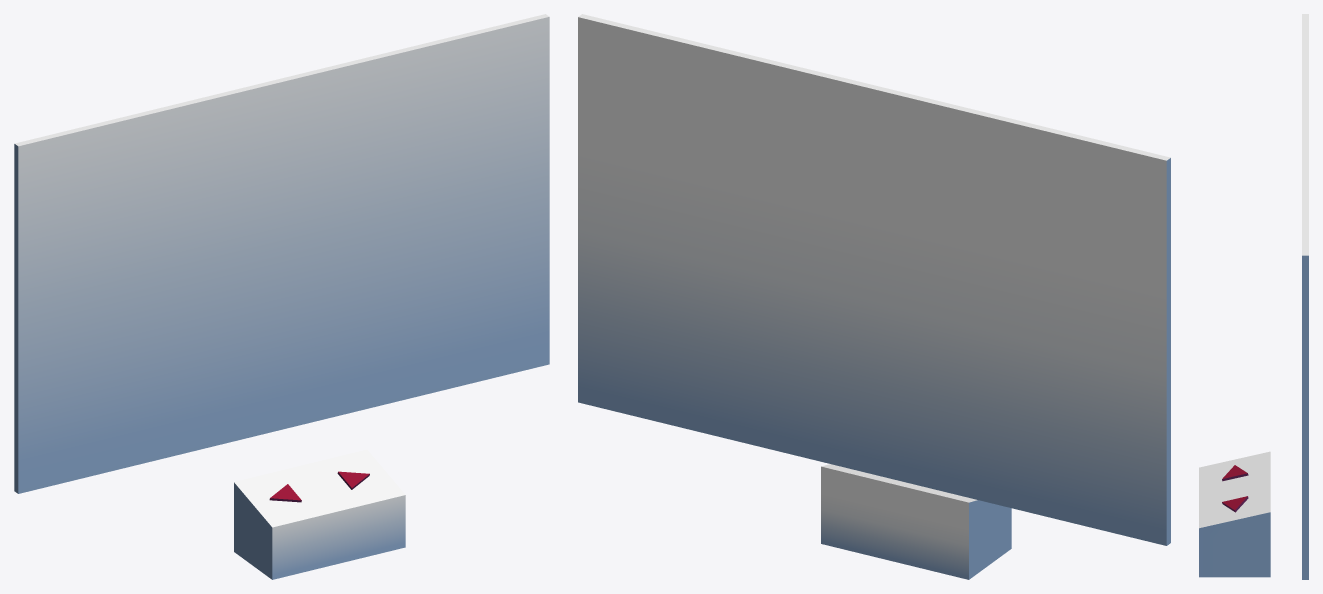
Rendered from InformationDisplay.fbx.
3 renders of one model, left to right at view 1: azimuth 30°, elevation 25°; view 2: azimuth 150°, elevation 25°; view 3: azimuth 270°, elevation 25°, orthographic. The views are drawn at different scales.
Visible parts, largest first — view 1: InformationDisplay; view 2: InformationDisplay; view 3: InformationDisplay.
Part boxes in pixels (x1,y1,x2,y2): InformationDisplay: (14,14,549,579); InformationDisplay: (578,14,1170,579); InformationDisplay: (1199,14,1308,579).
Bounding box in the file's own units: 797 × 633 × 153.
